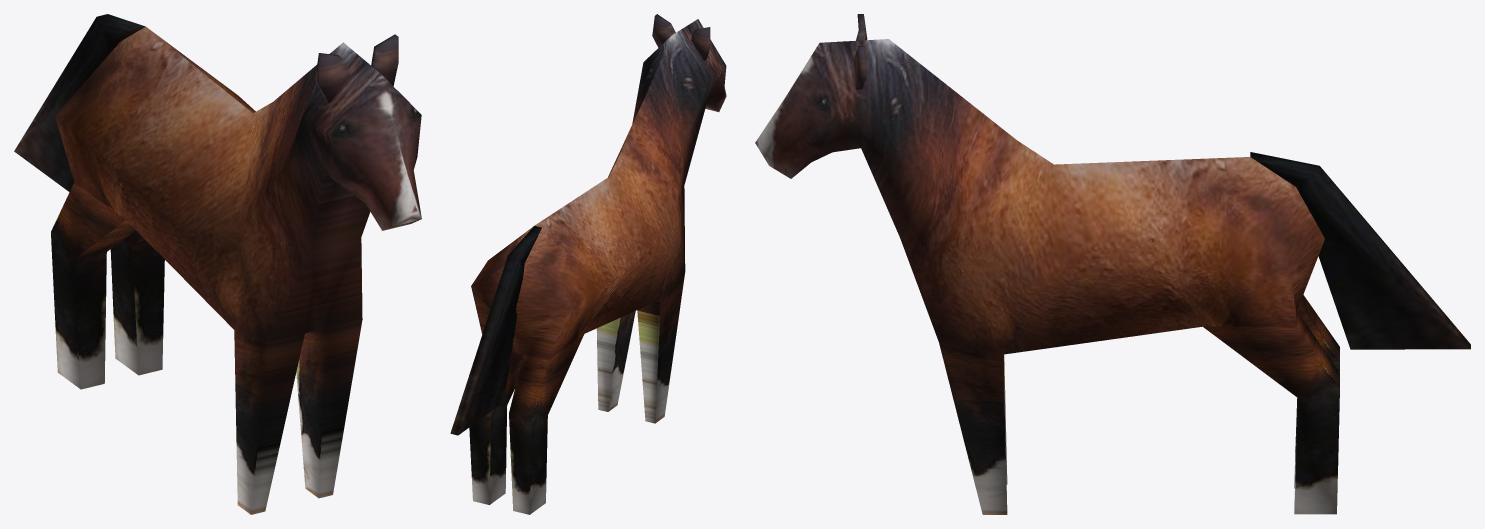
Rendered from horse.004.fbx.
The picture shows the model from 3 angles, left to right: view 1: azimuth 30°, elevation 25°; view 2: azimuth 150°, elevation 25°; view 3: azimuth 270°, elevation 25°; orthographic projection. The views are drawn at different scales.
Parts seen in each view (by area): view 1: horse.005; view 2: horse.005; view 3: horse.005.
Boxes of the visible parts, <box> form: horse.005: <box>14,14,421,514</box>; horse.005: <box>450,14,726,514</box>; horse.005: <box>755,14,1470,514</box>.
Bounding box in the file's own units: 74.51 × 228 × 318.
